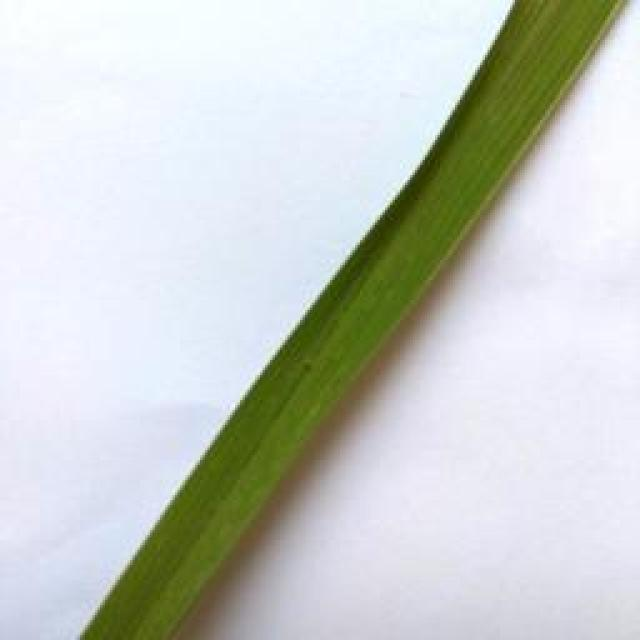Healthy-Plant: (75, 0, 624, 640)
